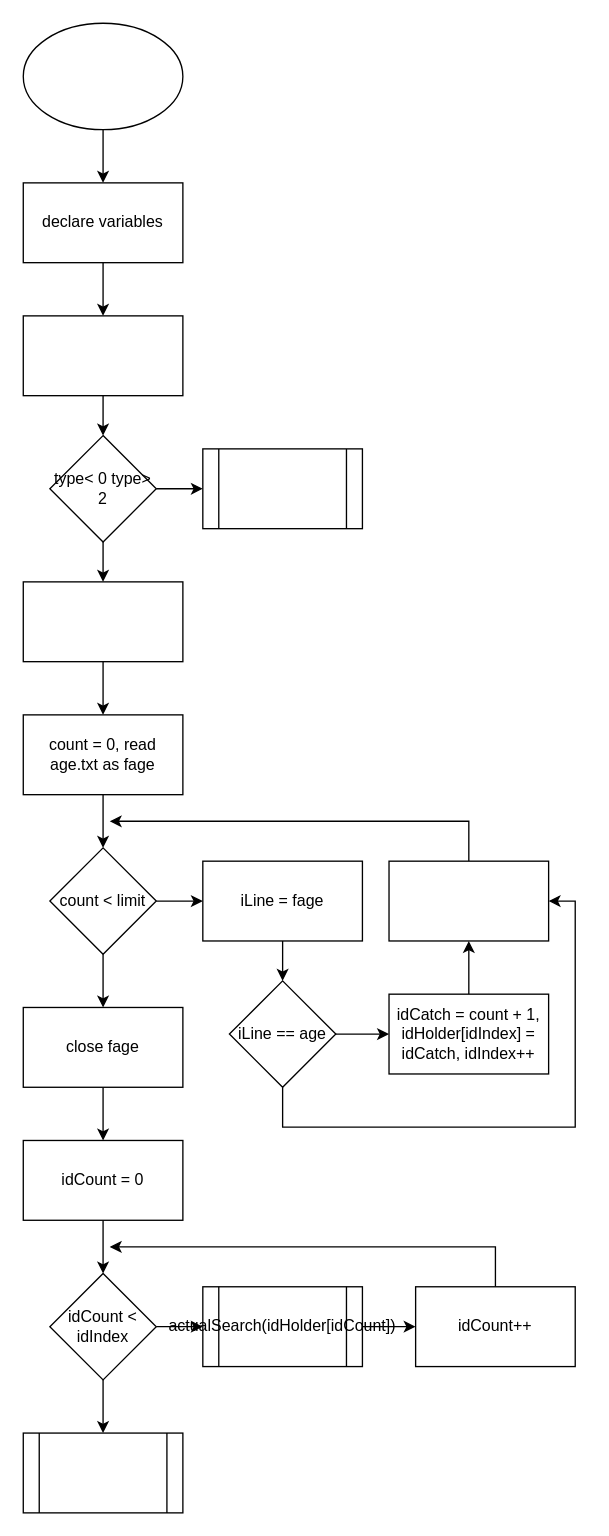
This 609x1536 diagram has some shape labels left out. Each missing label, with the centre of its shape:
Begin: pixel 102 76
count++: pixel 468 900
menu(): pixel 281 488
prompt user to enter age, read age: pixel 102 355
read nextid.txt as fidlimit, read fidlimit to limit, close fidlimit: pixel 102 621
returnToMenu(): pixel 102 1472
